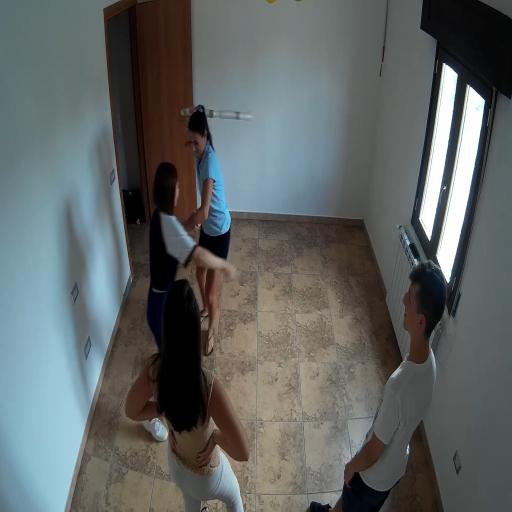violencia: (126, 99, 266, 359)
